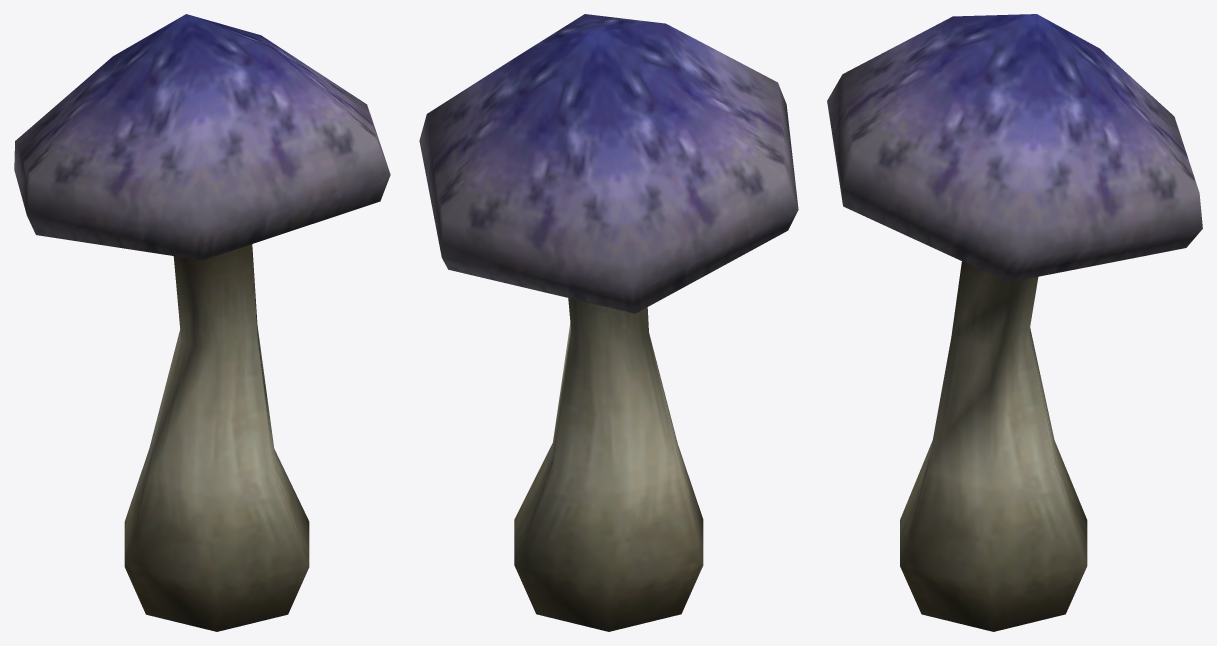
Rendered from OZ_02_ma_mush01A.glb.
3 views of the same model, side by side, from view 1: azimuth 30°, elevation 25°; view 2: azimuth 150°, elevation 25°; view 3: azimuth 270°, elevation 25° (orthographic). The views are drawn at different scales.
Parts seen in each view (by area): view 1: OM_02_ma_mush01A; view 2: OM_02_ma_mush01A; view 3: OM_02_ma_mush01A.
Boxes of the visible parts, <box> form: OM_02_ma_mush01A: <box>14,14,390,631</box>; OM_02_ma_mush01A: <box>419,14,798,631</box>; OM_02_ma_mush01A: <box>827,14,1202,631</box>.
Size of the model in its own units: 1.01 by 1.53 by 0.9029.
1 material, 1 textured.
